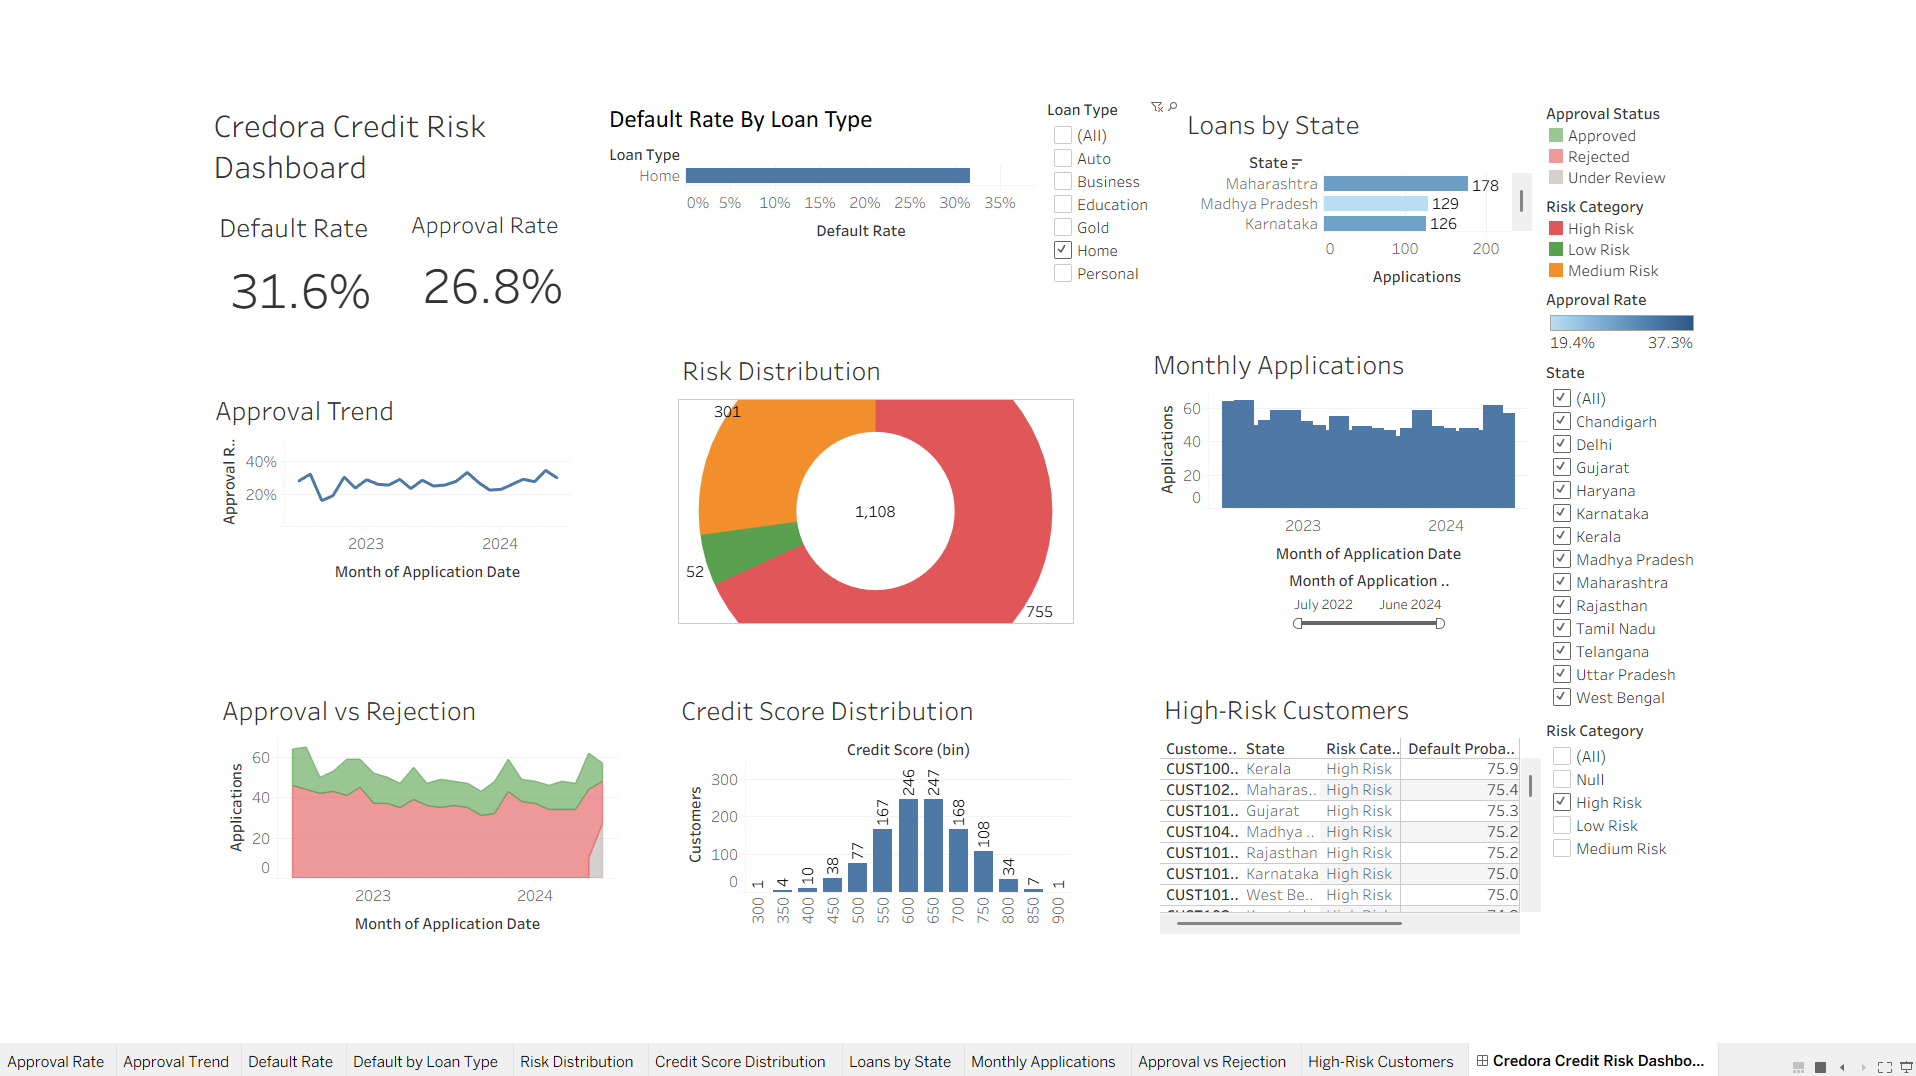

The page's visual inventory and layout, read from the dashboard file:
{"tool":"tableau","page":{"name":"Credora Credit Risk Dashboard","canvas":[1000,1000],"units":"permille","ordinal":0},"visuals":[{"type":"title","box":[0,1.2,237.3,125.6]},{"type":"worksheet","title":"Default by Loan Type","mark":"Automatic","rows":["loan_type"],"cols":["Calculation_1995118488203266"],"box":[263.3,9.4,288,226.5]},{"type":"filter","title":"Default by Loan Type","param":"[federated.1afcsks0td4zrq13pm63h0dmnwhx].[none:loan_type:nk]","box":[558,9.4,89.3,221.8]},{"type":"legend","title":"Approval vs Rejection","param":"[federated.1afcsks0td4zrq13pm63h0dmnwhx].[none:approval_status:nk]","box":[888,9.4,106.7,109.2]},{"type":"worksheet","title":"Loans by State","mark":"Automatic","rows":["state"],"cols":["cleaned_loan_applications.csv_37ABFD2499FA445DAECE2819F01DAC"],"box":[648.7,14.1,232.7,221.8]},{"type":"legend","title":"Risk Distribution","param":"[federated.1afcsks0td4zrq13pm63h0dmnwhx].[none:risk_category:nk]","box":[888,118.5,106.7,109.2]},{"type":"worksheet","title":"Approval Rate","mark":"Automatic","box":[131.3,132.6,129.3,138.5]},{"type":"worksheet","title":"Default Rate","mark":"Automatic","box":[3.3,133.8,128,152.6]},{"type":"legend","title":"Loans by State","param":"[federated.1afcsks0td4zrq13pm63h0dmnwhx].[usr:Calculation_1995118458306561:qk]","box":[888,227.7,106.7,85.7]},{"type":"worksheet","title":"Monthly Applications","mark":"Bar","rows":["cleaned_loan_applications.csv_37ABFD2499FA445DAECE2819F01DAC"],"cols":["application_date"],"box":[626,293.4,253.3,265.3]},{"type":"worksheet","title":"Risk Distribution","mark":"Pie","rows":["Calculation_1995118498983940","Calculation_1995118499053574"],"box":[312,300.5,264,319.2]},{"type":"filter","title":"High-Risk Customers","param":"[federated.1afcsks0td4zrq13pm63h0dmnwhx].[none:state:nk]","box":[888,313.4,106.7,420.2]},{"type":"worksheet","title":"Approval Trend","mark":"Automatic","rows":["Calculation_1995118458306561"],"cols":["application_date"],"box":[0.7,346.2,240,232.4]},{"type":"filter","title":"Monthly Applications","param":"[federated.1afcsks0td4zrq13pm63h0dmnwhx].[tmn:application_date:qk]","box":[719.3,557.5,106.7,76.3]},{"type":"worksheet","title":"High-Risk Customers","mark":"Automatic","rows":["customer_id (scored_customers.csv)","state","risk_category"],"box":[633.3,693.7,254,286.4]},{"type":"worksheet","title":"Approval vs Rejection","mark":"Area","rows":["cleaned_loan_applications.csv_37ABFD2499FA445DAECE2819F01DAC"],"cols":["application_date"],"box":[5.3,694.8,266.7,293.4]},{"type":"worksheet","title":"Credit Score Distribution","mark":"Automatic","rows":["cleaned_credit_history.csv_E69D3ECA5511453E9EB7B6108B768432"],"cols":["Credit Score (bin)"],"box":[311.3,694.8,262.7,282.9]},{"type":"filter","title":"High-Risk Customers","param":"[federated.1afcsks0td4zrq13pm63h0dmnwhx].[none:risk_category:nk]","box":[888,733.6,106.7,177.2]}]}

Visuals, with their boxes on the dashboard's canvas, which has no fixed pixel size, in thousandths of its width and height (x1, y1, x2, y2). These are canvas units, not pixel positions in the 1916x1076 screenshot, which may show the page scaled, cropped or inside an application window:
title: region(0, 1, 237, 127)
"Default by Loan Type" worksheet: region(263, 9, 551, 236)
"Default by Loan Type" filter: region(558, 9, 647, 231)
"Approval vs Rejection" legend: region(888, 9, 995, 119)
"Loans by State" worksheet: region(649, 14, 881, 236)
"Risk Distribution" legend: region(888, 118, 995, 228)
"Approval Rate" worksheet: region(131, 133, 261, 271)
"Default Rate" worksheet: region(3, 134, 131, 286)
"Loans by State" legend: region(888, 228, 995, 313)
"Monthly Applications" worksheet (Bar marks): region(626, 293, 879, 559)
"Risk Distribution" worksheet (Pie marks): region(312, 300, 576, 620)
"High-Risk Customers" filter: region(888, 313, 995, 734)
"Approval Trend" worksheet: region(1, 346, 241, 579)
"Monthly Applications" filter: region(719, 558, 826, 634)
"High-Risk Customers" worksheet: region(633, 694, 887, 980)
"Approval vs Rejection" worksheet (Area marks): region(5, 695, 272, 988)
"Credit Score Distribution" worksheet: region(311, 695, 574, 978)
"High-Risk Customers" filter: region(888, 734, 995, 911)
